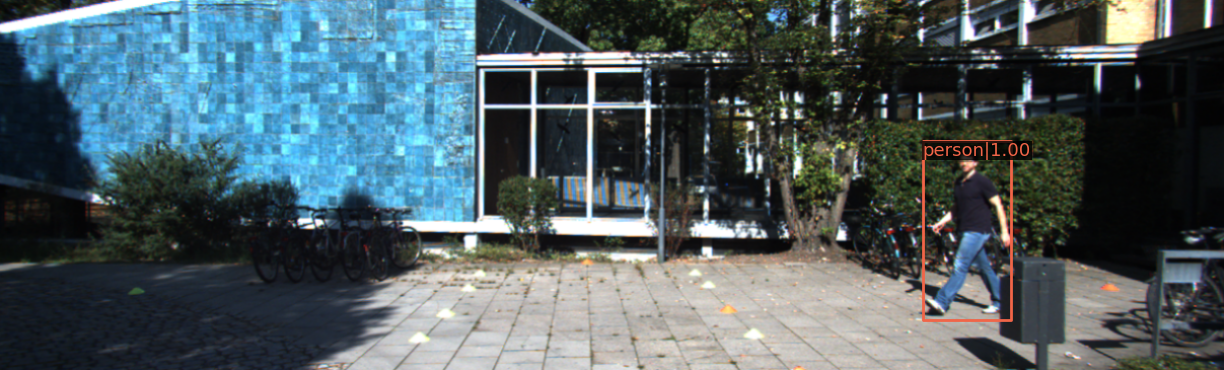person: (924, 143, 1014, 323)
